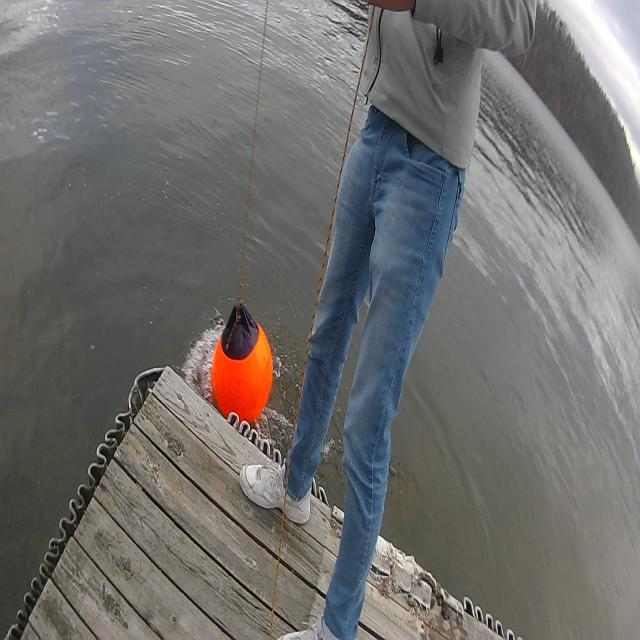Buoy: (208, 299, 276, 430)
